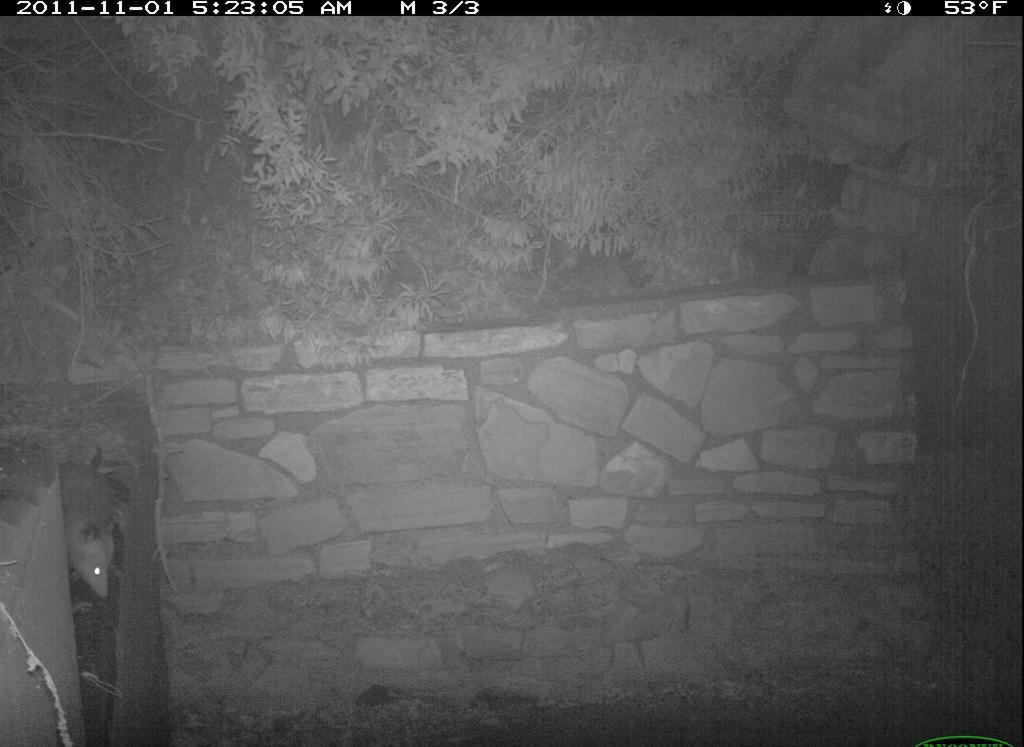opossum: (47, 436, 152, 621)
